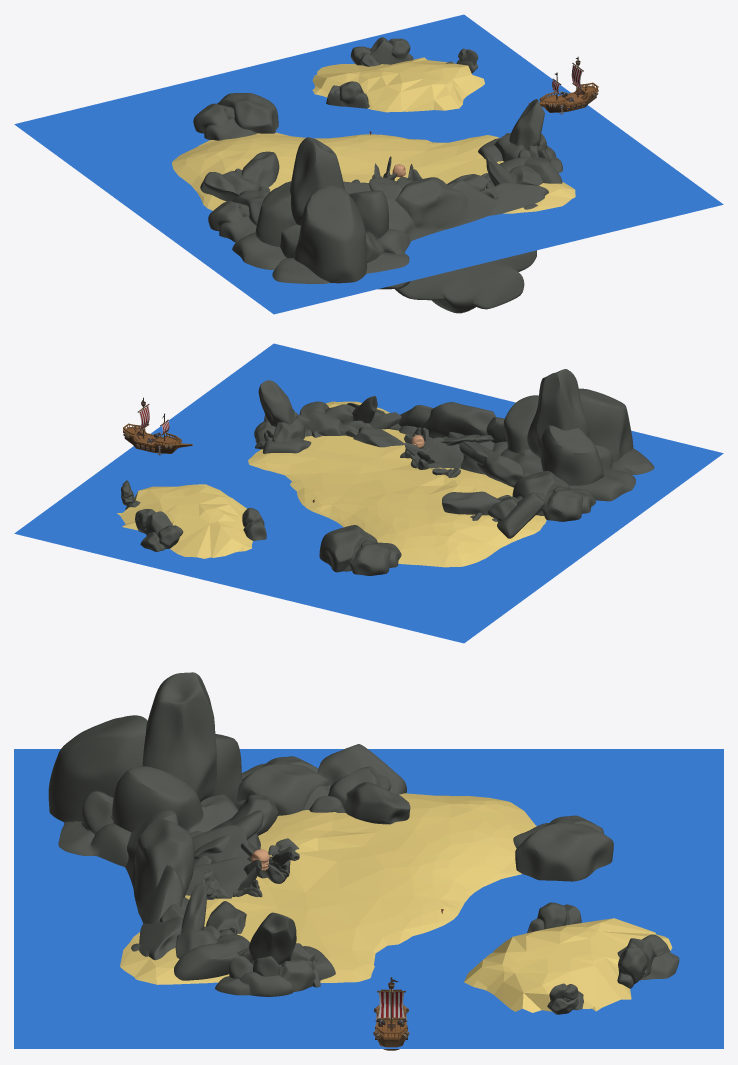
Rendered from island-test-2.glb.
3 views of the same model, one above another, from view 1: azimuth 30°, elevation 25°; view 2: azimuth 150°, elevation 25°; view 3: azimuth 270°, elevation 25° (orthographic). The views are drawn at different scales.
Visible parts, largest first — view 1: Plane.001, Enviroment_sea, Environment_Cliff2.001, Environment_Cliff2.002, Environment_Cliff1.001, Environment_Cliff4.001, Environment_Cliff4.002, Environment_Cliff1.010, Environment_Cliff3.001, Ship_Large.001, Environment_Cliff1.003, Environment_Cliff1.004 (+2 smaller); view 2: Plane.001, Enviroment_sea, Environment_Cliff2.001, Environment_Cliff2.002, Environment_Cliff1.001, Environment_Cliff4.002, Environment_Cliff4.001, Environment_Cliff1.010, Environment_Cliff3.001, Environment_Cliff2.003, Ship_Large.001, Environment_Cliff4.005 (+4 smaller); view 3: Plane.001, Enviroment_sea, Environment_Cliff2.001, Environment_Cliff2.002, Environment_Cliff4.001, Environment_Cliff4.002, Environment_Cliff1.001, Environment_Cliff1.010, Environment_Cliff3.001, Environment_Cliff1.002, Environment_Cliff2.003, Ship_Large.001 (+7 smaller).
Boxes of the visible parts, x1=… form: Plane.001: x1=14, y1=14, x2=723, y2=314; Enviroment_sea: x1=172, y1=57, x2=575, y2=213; Environment_Cliff2.001: x1=232, y1=137, x2=410, y2=289; Environment_Cliff2.002: x1=385, y1=177, x2=536, y2=313; Environment_Cliff1.001: x1=193, y1=93, x2=278, y2=140; Environment_Cliff4.001: x1=478, y1=99, x2=562, y2=172; Environment_Cliff4.002: x1=200, y1=151, x2=279, y2=201; Environment_Cliff1.010: x1=208, y1=190, x2=269, y2=242; Environment_Cliff3.001: x1=479, y1=156, x2=562, y2=199; Ship_Large.001: x1=528, y1=56, x2=598, y2=114; Environment_Cliff1.003: x1=489, y1=182, x2=548, y2=215; Environment_Cliff1.004: x1=370, y1=37, x2=413, y2=64; Plane.001: x1=14, y1=343, x2=723, y2=643; Enviroment_sea: x1=117, y1=401, x2=546, y2=567; Environment_Cliff2.001: x1=492, y1=369, x2=654, y2=501; Environment_Cliff2.002: x1=398, y1=402, x2=506, y2=450; Environment_Cliff1.001: x1=319, y1=525, x2=401, y2=575; Environment_Cliff4.002: x1=442, y1=491, x2=545, y2=538; Environment_Cliff4.001: x1=254, y1=380, x2=312, y2=453; Environment_Cliff1.010: x1=512, y1=470, x2=595, y2=521; Environment_Cliff3.001: x1=299, y1=401, x2=401, y2=437; Environment_Cliff2.003: x1=447, y1=432, x2=532, y2=487; Ship_Large.001: x1=123, y1=397, x2=192, y2=455; Environment_Cliff4.005: x1=410, y1=437, x2=463, y2=468; Plane.001: x1=14, y1=749, x2=723, y2=1048; Enviroment_sea: x1=120, y1=793, x2=672, y2=1012; Environment_Cliff2.001: x1=48, y1=672, x2=242, y2=866; Environment_Cliff2.002: x1=125, y1=810, x2=194, y2=923; Environment_Cliff4.001: x1=215, y1=912, x2=335, y2=996; Environment_Cliff4.002: x1=304, y1=744, x2=410, y2=824; Environment_Cliff1.001: x1=513, y1=815, x2=613, y2=881; Environment_Cliff1.010: x1=237, y1=756, x2=329, y2=815; Environment_Cliff3.001: x1=159, y1=904, x2=249, y2=980; Environment_Cliff1.002: x1=185, y1=825, x2=251, y2=896; Environment_Cliff2.003: x1=194, y1=794, x2=278, y2=859; Ship_Large.001: x1=373, y1=977, x2=409, y2=1050.
Size of the model in its own units: 259 by 99.07 by 253.
Materials: 9 (7 with a texture image).
